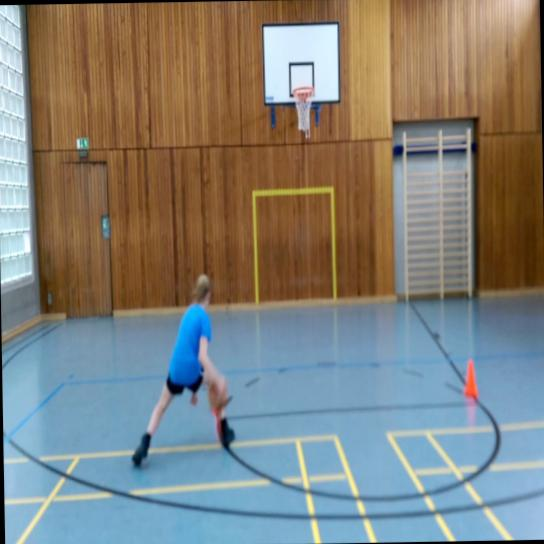basketball-hoop: (292, 84, 316, 134)
